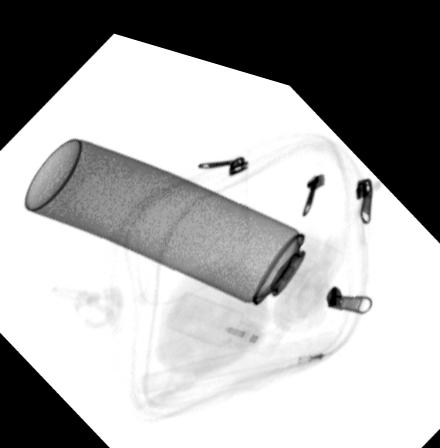Sprayer: (20, 130, 346, 308)
